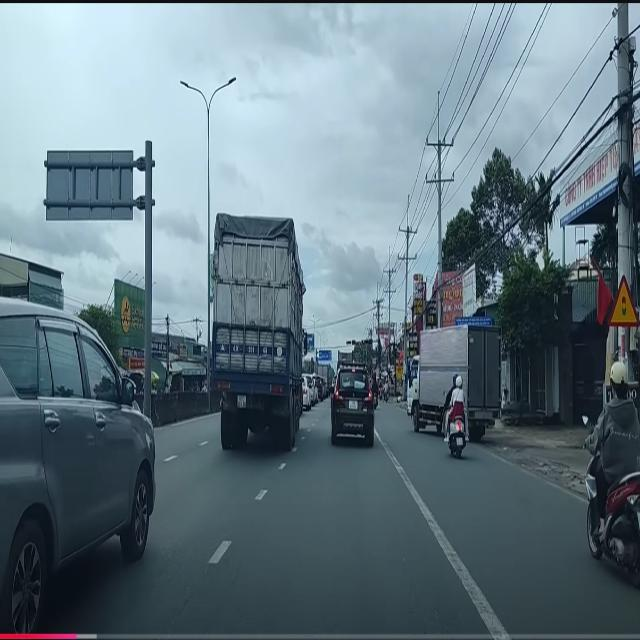Bien bao giao nhau co tin hieu den: (606, 273, 640, 332)
